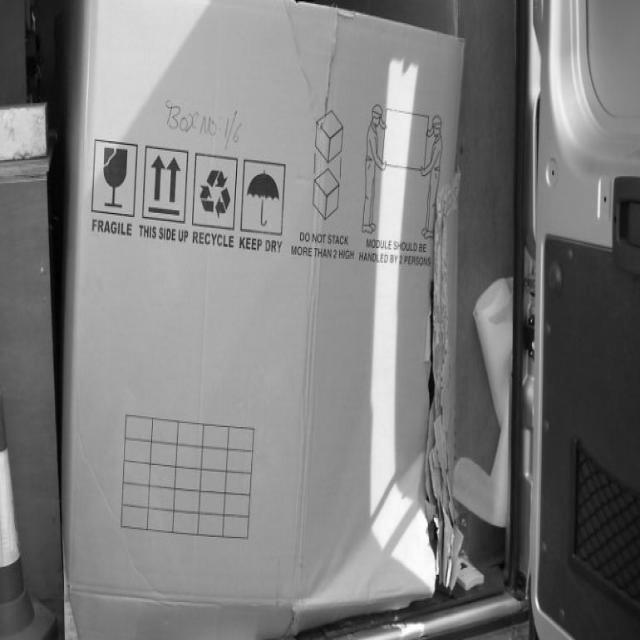hole: (424, 262, 443, 560)
